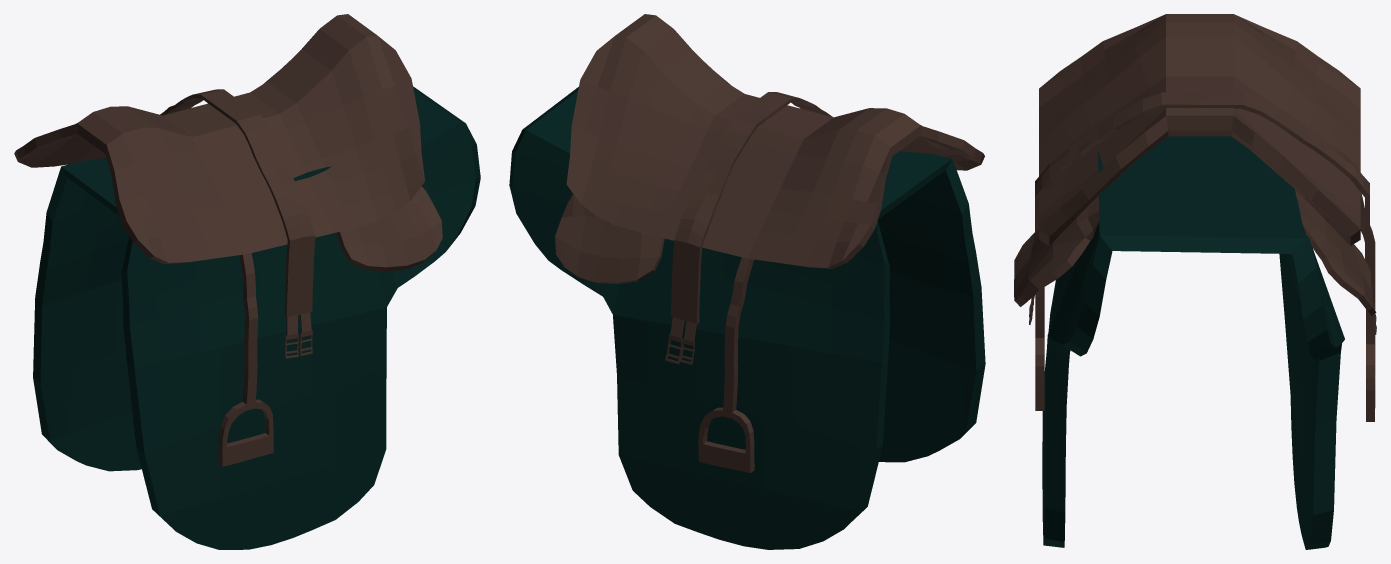
Rendered from Sella 1.fbx.
3 renders of one model, left to right at view 1: azimuth 30°, elevation 25°; view 2: azimuth 150°, elevation 25°; view 3: azimuth 270°, elevation 25°, orthographic. The views are drawn at different scales.
Parts seen in each view (by area): view 1: Plane.007; view 2: Plane.007; view 3: Plane.007.
Boxes of the visible parts, bbox=[...] form: Plane.007: bbox=[14, 14, 480, 549]; Plane.007: bbox=[509, 14, 985, 549]; Plane.007: bbox=[1014, 14, 1376, 549].
Size of the model in its own units: 125 by 144 by 94.63.
